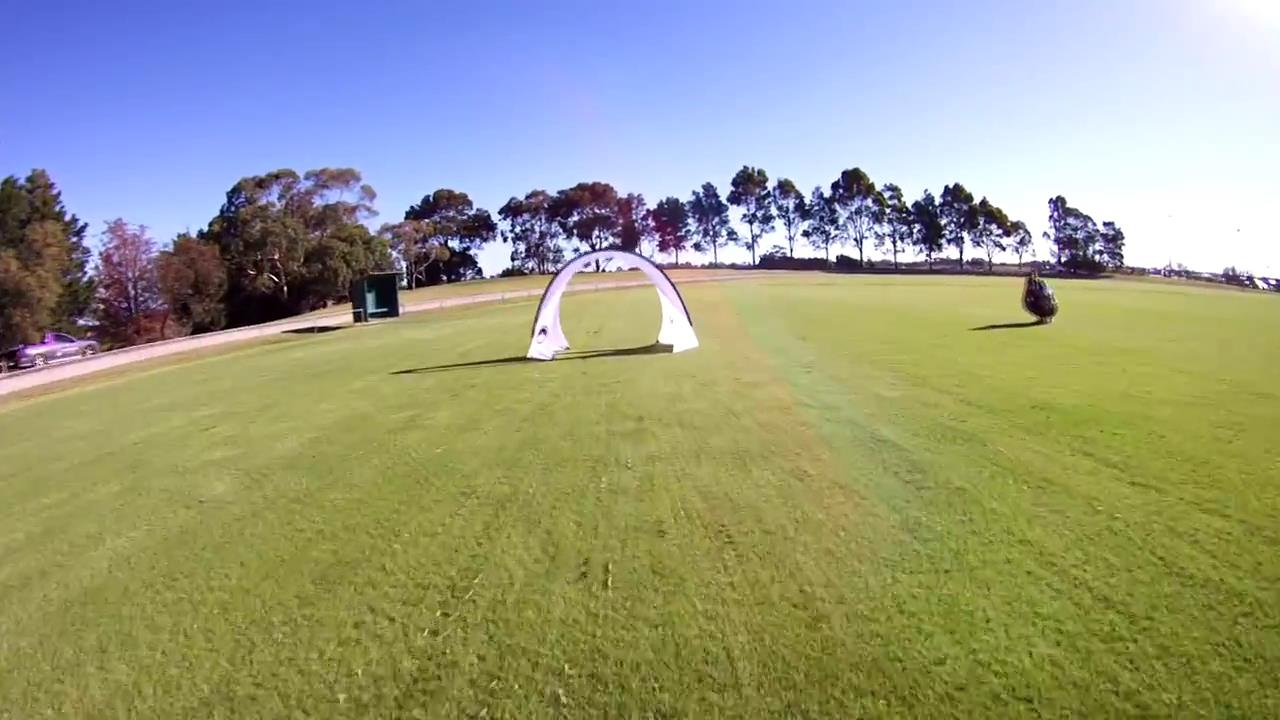gate: (522, 247, 706, 363)
